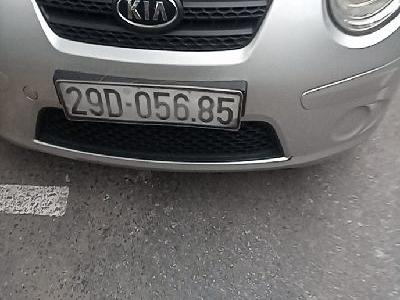lisence: (53, 74, 244, 132)
